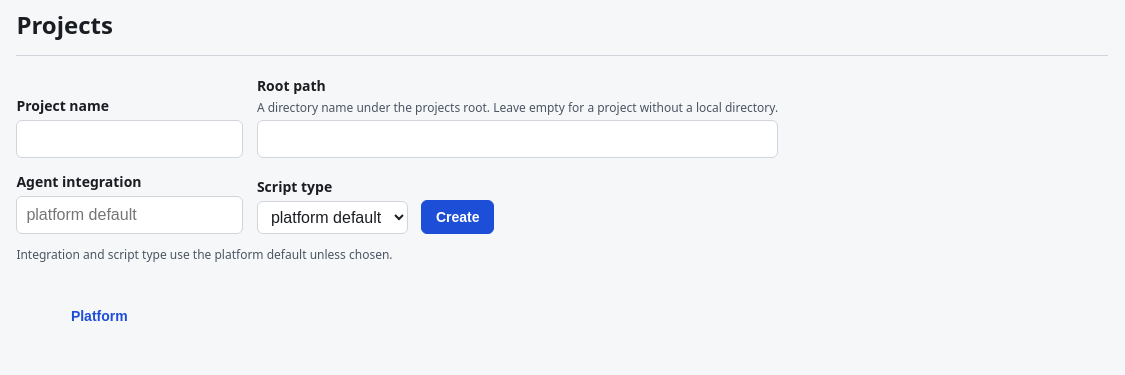
Test case: ProjectsPage · create › surfaces a duplicate-name conflict from the API
Expected: the button "Platform" is shown, top-left (56, 299), bottom-right (142, 333)
Type "Platform" into the field labelled "Project name" at (130, 139), box top-left (16, 120), bottom-right (243, 158)
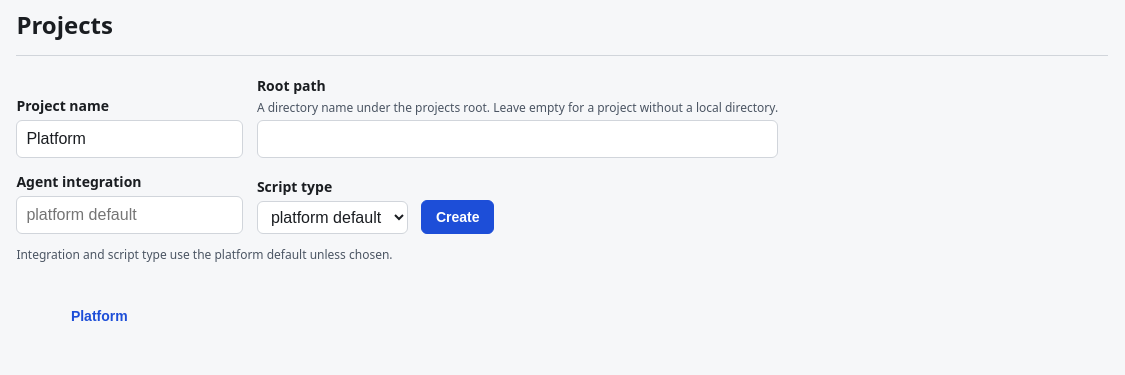
Click the button "Create" at (458, 217), box top-left (421, 200), bottom-right (494, 234)
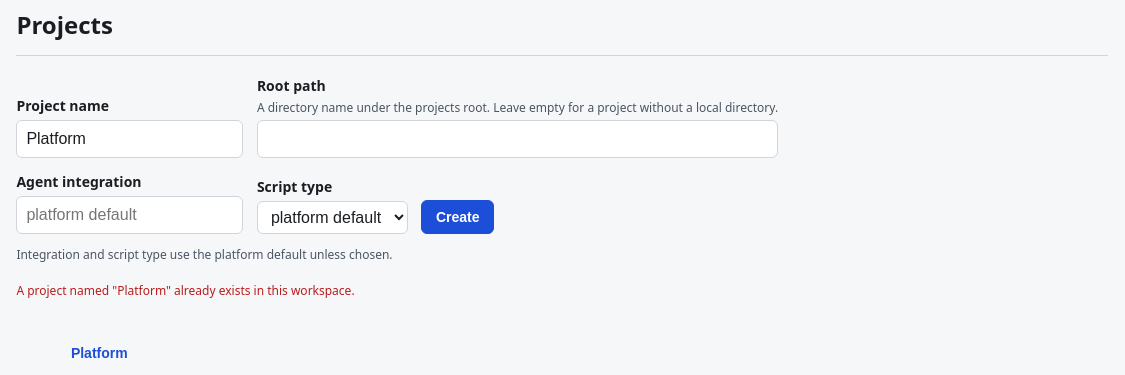
Now the text "A project named \"Platform\" already exists in this workspace." is shown, box top-left (16, 282), bottom-right (355, 299)
